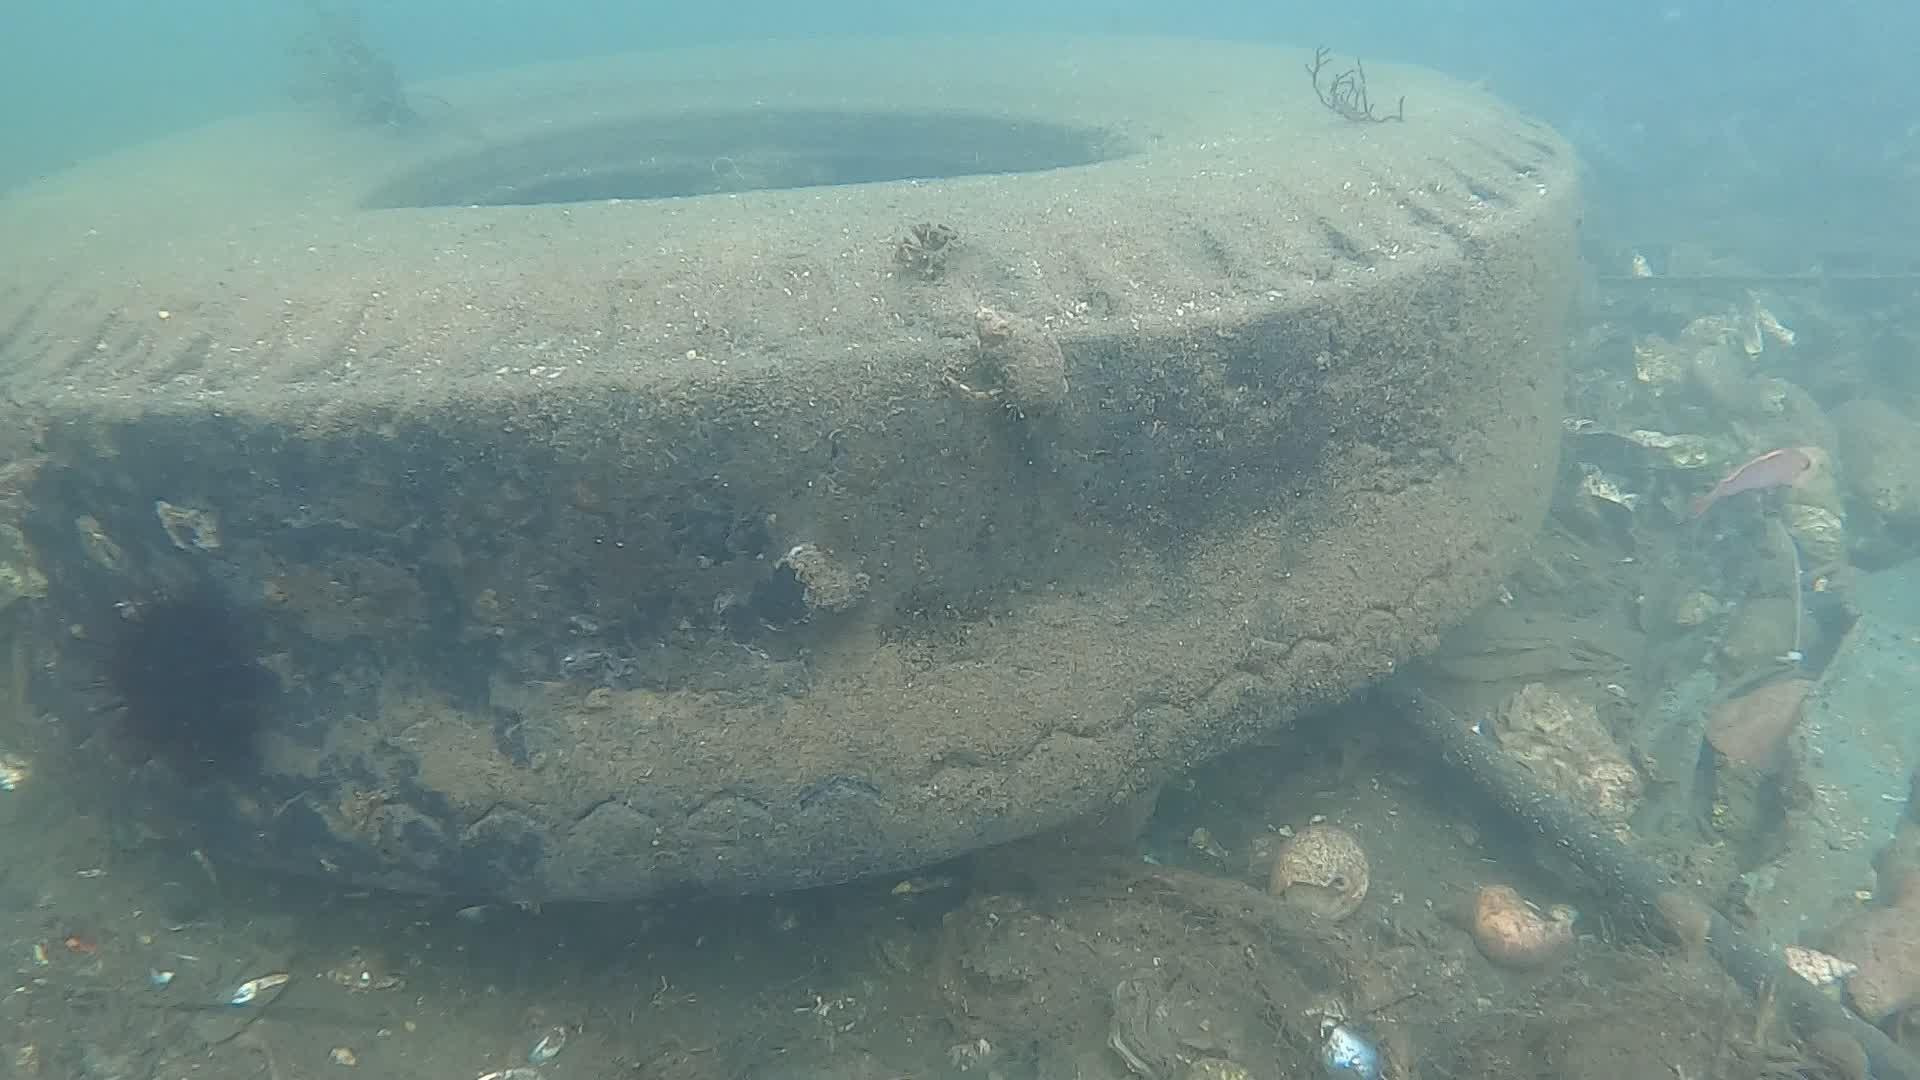tire: (7, 42, 1577, 914)
